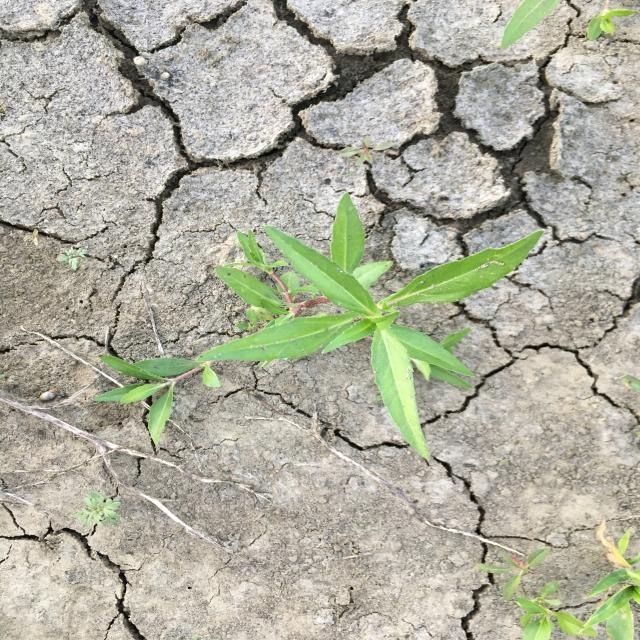Eclipta: (90, 190, 548, 462)
Ragweed: (68, 493, 126, 532)
Waterhemp: (472, 522, 602, 639)
